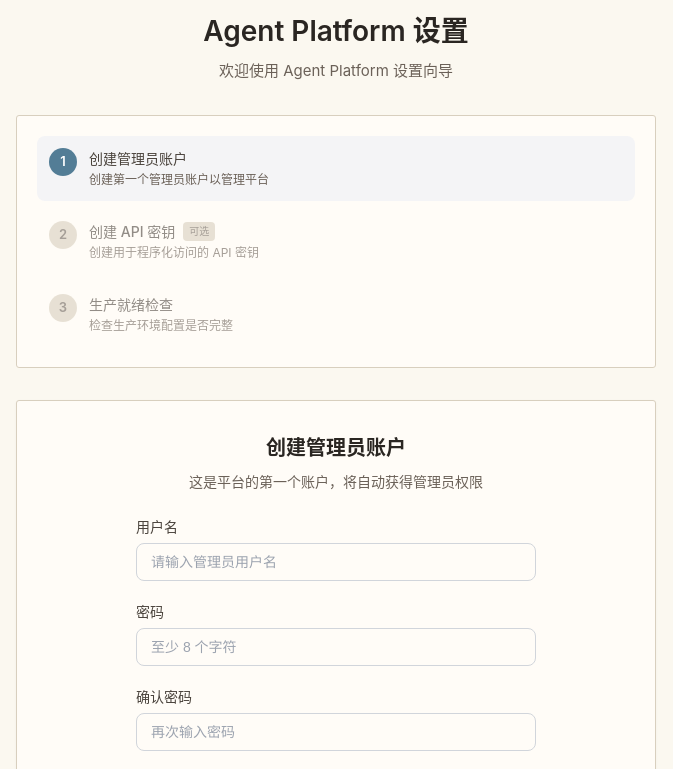
Test case: Cross-Feature Regression Suite › Setup Readiness UI Integration › validates password confirmation match
Type "admin" into the field with test id "admin-username-input" at (336, 562), box [136,542,536,580]
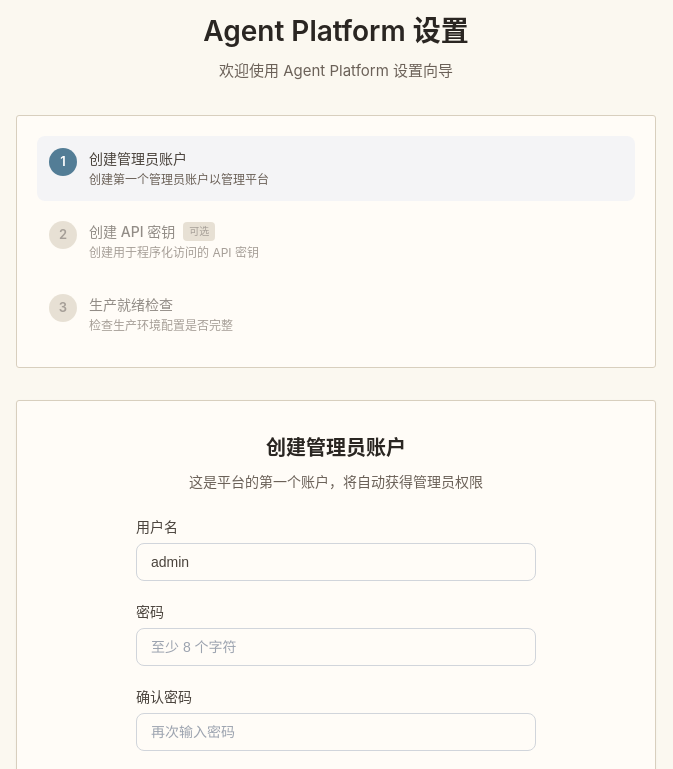
Type "password123" into the password field with test id "admin-password-input" at (336, 646), box [136,628,536,666]
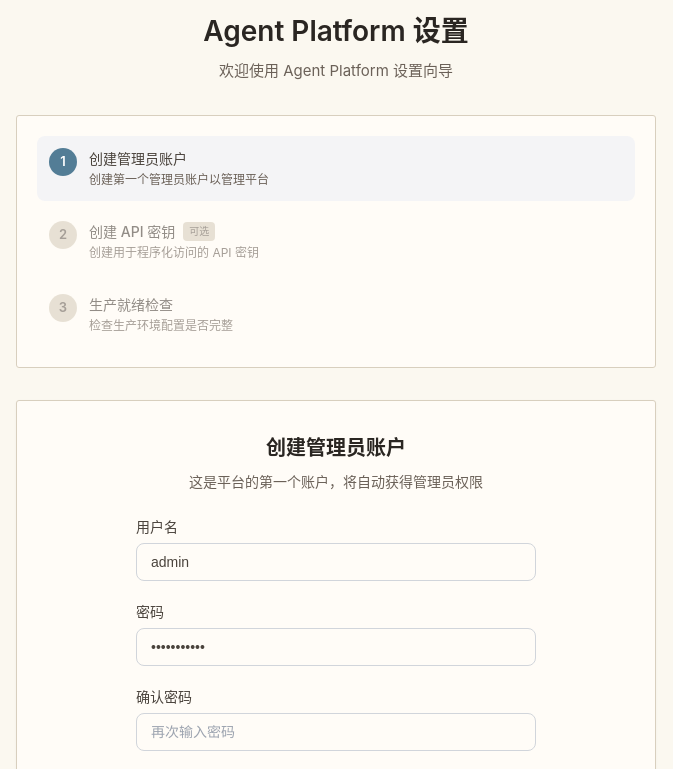
Type "password456" into the password field with test id "admin-confirm-password-input" at (336, 732), box [136,712,536,750]
(page scrolled)
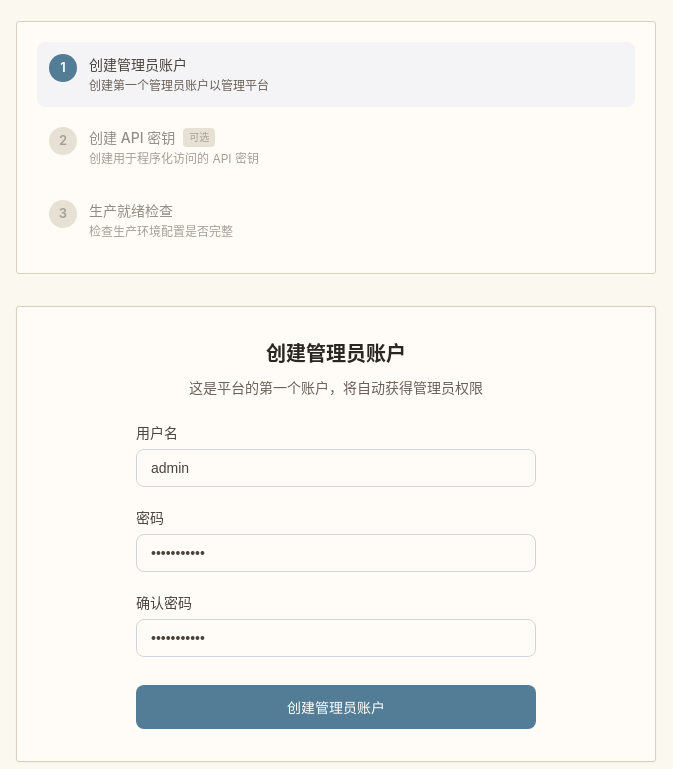
Click the button with test id "admin-create-submit" at (336, 706), box [136,684,536,728]
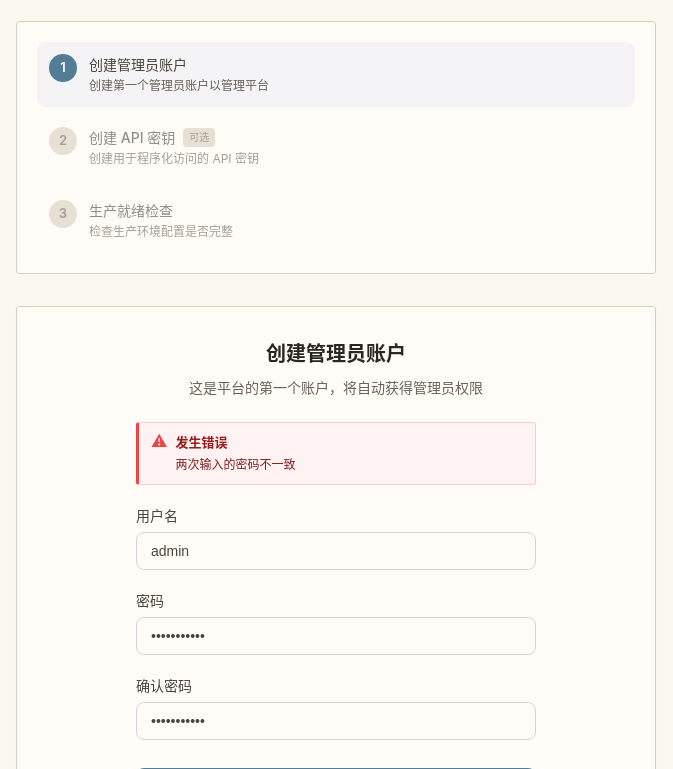
expect the message with test id "setup-admin-error" shows "两次输入的密码不一致": met, box [175,457,295,472]
